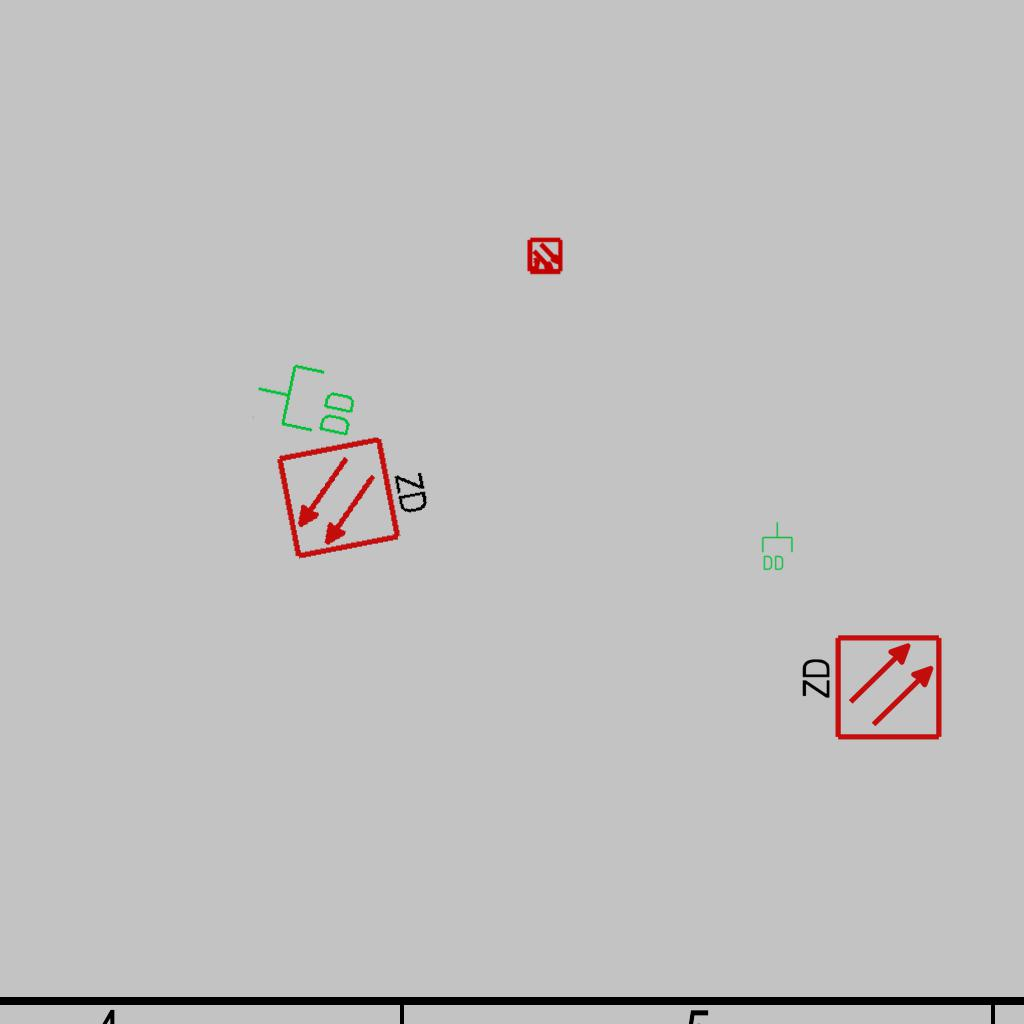Datenanschluss_zweifach: (248, 355, 365, 444), (760, 521, 794, 572)
OT_Multisensormelder_(Kombination_RMO_WMD): (517, 229, 573, 285)
ZD_Melder_in_Zwischendecke_mit_Revisionsoeffnung_mind_40_x_40_cm: (272, 422, 442, 563), (795, 632, 944, 746)
